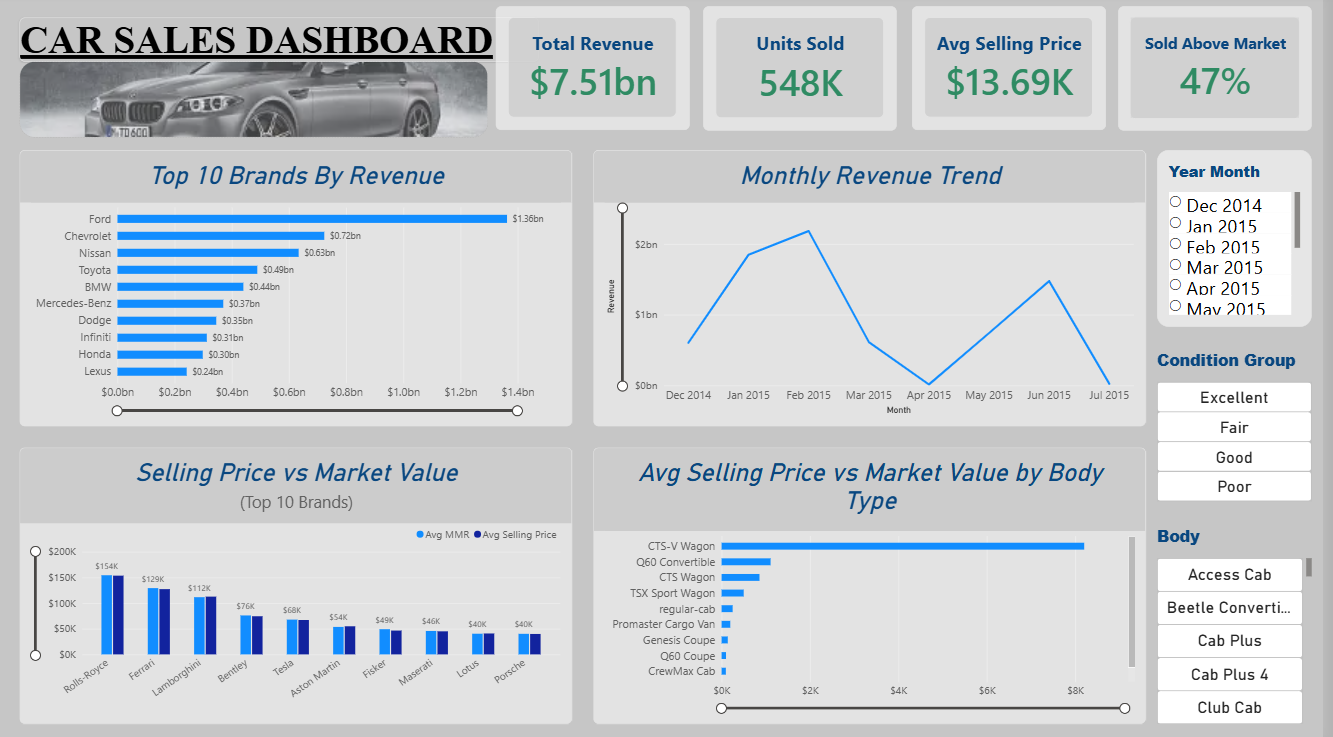

What the dashboard file says about the page in this screenshot:
{"tool":"powerbi","page":{"name":"Page 1","canvas":[1920,1080],"ordinal":0},"visuals":[{"type":"cardVisual","fields":{"Data":["car_prices.Units Sold"]},"box":[1022.5,16.3,280,180],"z":0},{"type":"textbox","box":[32,32,752,64],"z":1000},{"type":"lineChart","title":"Monthly Revenue Trend","fields":{"Category":["Date Table.Year Month"],"Y":["car_prices.Total Revenue"]},"box":[864,224,800,400],"z":2000},{"type":"clusteredBarChart","title":"Top 10 Brands By Revenue","fields":{"Category":["car_prices.make"],"Y":["car_prices.Total Revenue"]},"box":[32,224,800,400],"z":3000},{"type":"textbox","box":[1008,576,560,48],"z":4000},{"type":"advancedSlicerVisual","fields":{"Values":["car_prices.Condition Group"]},"box":[1680,512,224,224],"z":5000},{"type":"listSlicer","fields":{"Values":["Date Table.Year Month"]},"box":[1680,224,224,256],"z":6000},{"type":"advancedSlicerVisual","title":"Body","fields":{"Values":["car_prices.body"]},"box":[1679.4,767.3,224,288],"z":7000},{"type":"cardVisual","fields":{"Data":["car_prices.% Sold Above Market"]},"box":[1623.3,16.3,280,180],"z":8000},{"type":"clusteredColumnChart","title":"Selling Price vs Market Value","fields":{"Category":["car_prices.make"],"Y":["car_prices.Avg MMR","car_prices.Avg Selling Price"]},"box":[32,656,800,400],"z":9000},{"type":"clusteredBarChart","title":"Avg Selling Price vs Market Value by Body Type","fields":{"Category":["car_prices.body"],"Y":["car_prices.Avg Price Diff"]},"box":[864,656,800,400],"z":10000},{"type":"image","box":[32,96,678,110],"z":11000},{"type":"cardVisual","fields":{"Data":["car_prices.Total Revenue"]},"box":[722.1,16.3,280.5,179.2],"z":12000},{"type":"cardVisual","fields":{"Data":["car_prices.Avg Selling Price"]},"box":[1324.7,16.3,280.5,179.2],"z":13000}]}

Visuals, with their boxes in screenshot pixels (x1, y1, x2, y2), scaled from the page's 1920x1080 canvas onto the 1333x737 screenshot:
cardVisual - car_prices.Units Sold: bbox=(710, 11, 904, 134)
textbox: bbox=(22, 22, 544, 66)
"Monthly Revenue Trend" lineChart: bbox=(600, 153, 1155, 426)
"Top 10 Brands By Revenue" clusteredBarChart: bbox=(22, 153, 578, 426)
textbox: bbox=(700, 393, 1089, 426)
advancedSlicerVisual - car_prices.Condition Group: bbox=(1166, 349, 1322, 502)
listSlicer - Date Table.Year Month: bbox=(1166, 153, 1322, 328)
"Body" advancedSlicerVisual: bbox=(1166, 524, 1321, 720)
cardVisual - car_prices.% Sold Above Market: bbox=(1127, 11, 1321, 134)
"Selling Price vs Market Value" clusteredColumnChart: bbox=(22, 448, 578, 721)
"Avg Selling Price vs Market Value by Body Type" clusteredBarChart: bbox=(600, 448, 1155, 721)
image: bbox=(22, 66, 493, 141)
cardVisual - car_prices.Total Revenue: bbox=(501, 11, 696, 133)
cardVisual - car_prices.Avg Selling Price: bbox=(920, 11, 1114, 133)
